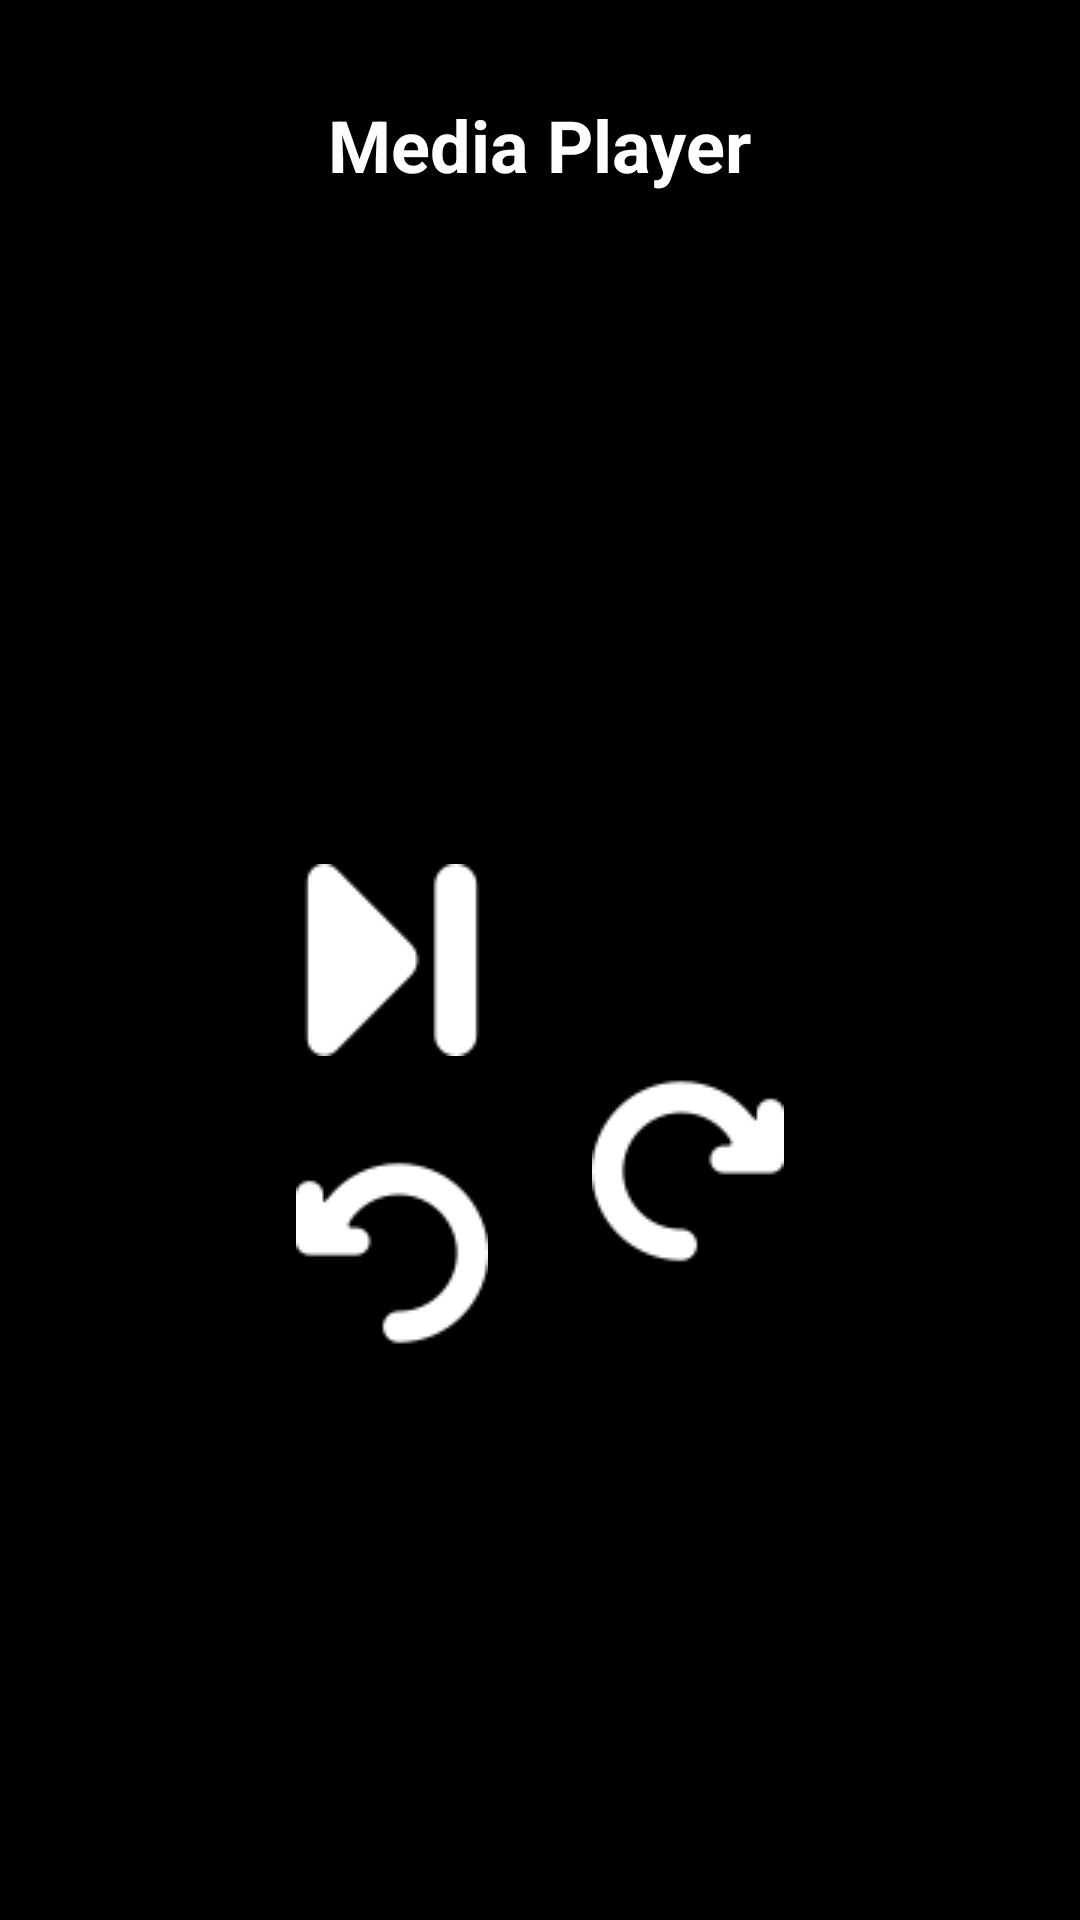

Icon click points for this 1080*1920 phone screenshot, format (x=x, y=y):
back: (x=392, y=1253)
forward: (x=688, y=1171)
